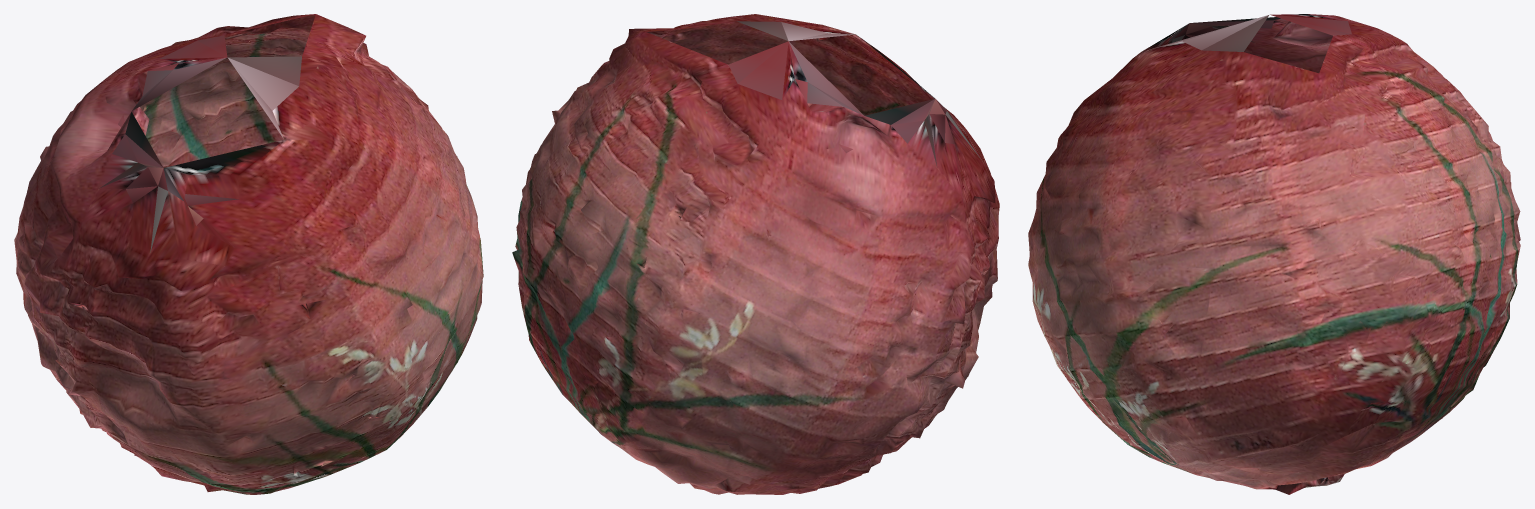
File: Bobbi ORchids.fbx
3 views of the same model, side by side, from view 1: azimuth 30°, elevation 25°; view 2: azimuth 150°, elevation 25°; view 3: azimuth 270°, elevation 25° (orthographic). The views are drawn at different scales.
Parts seen in each view (by area): view 1: Stereo textured mesh; view 2: Stereo textured mesh; view 3: Stereo textured mesh.
Part boxes in pixels (<box>): Stereo textured mesh: <box>14,14,483,494</box>; Stereo textured mesh: <box>512,14,999,494</box>; Stereo textured mesh: <box>1028,14,1520,494</box>.
Size of the model in its own units: 9.06 by 9.07 by 8.95.
1 material, 1 textured.
